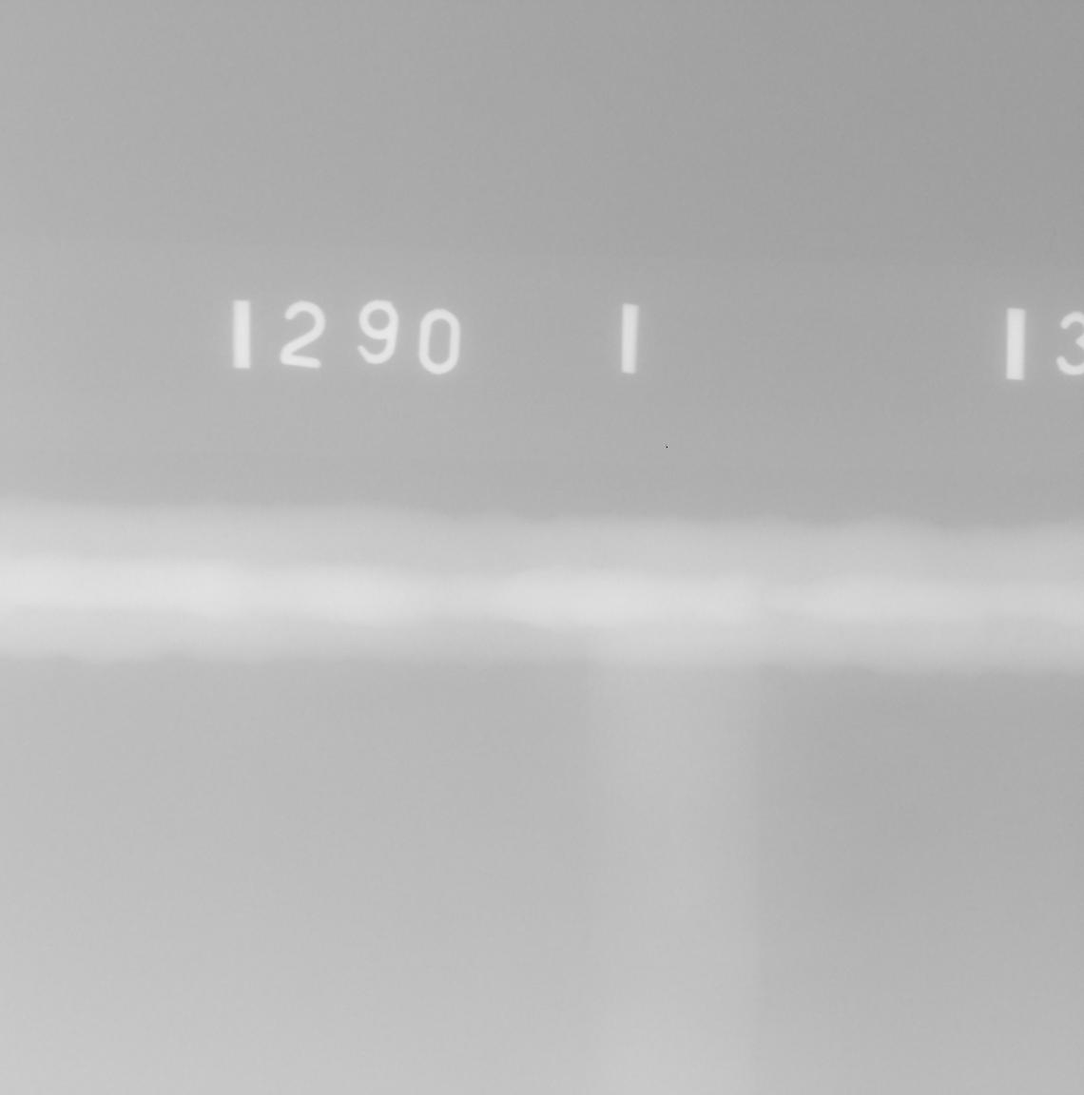Pore/Porosity: (711, 573, 714, 579)
